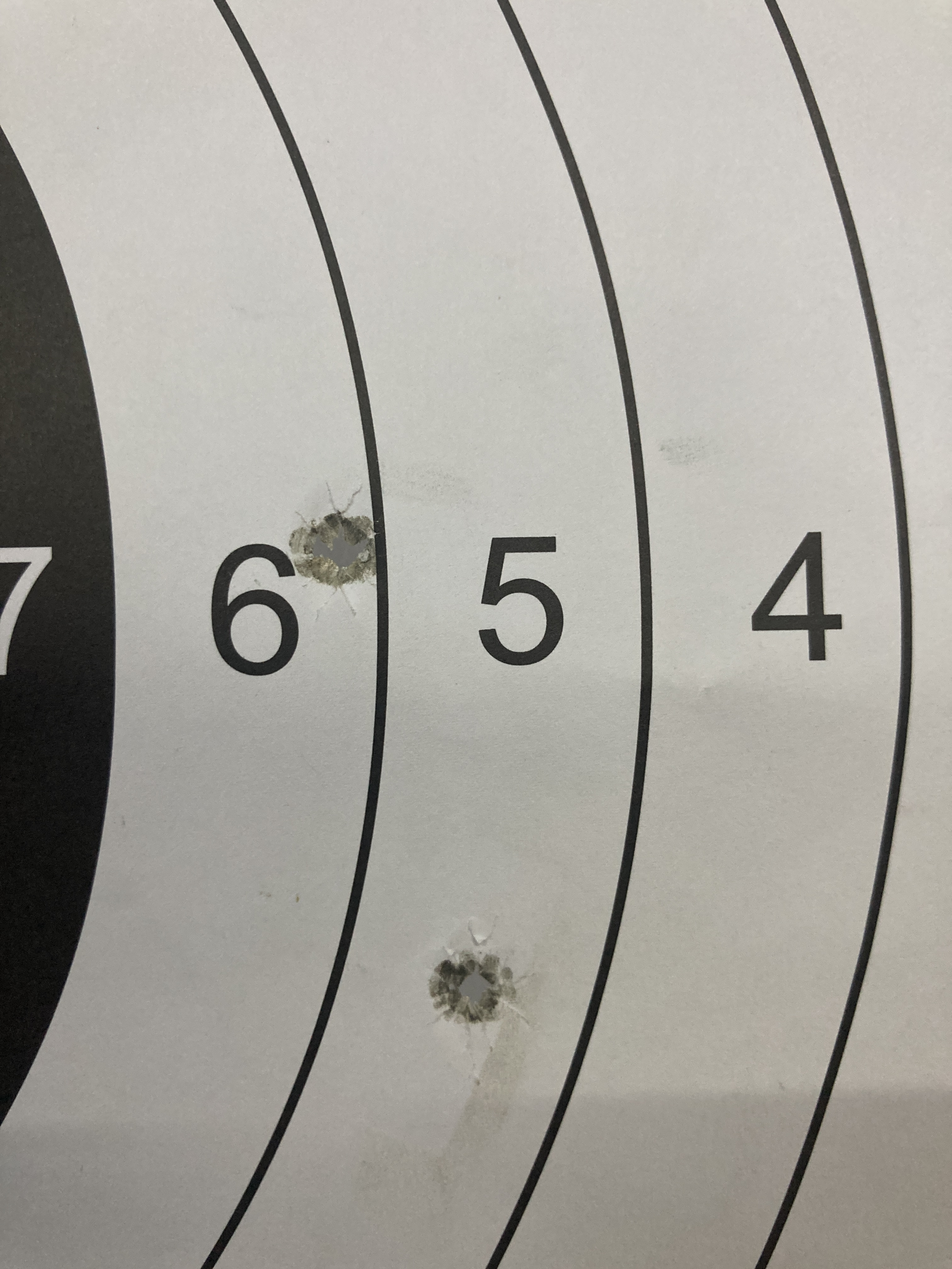hole: (264, 466, 400, 604), (409, 938, 545, 1048)
